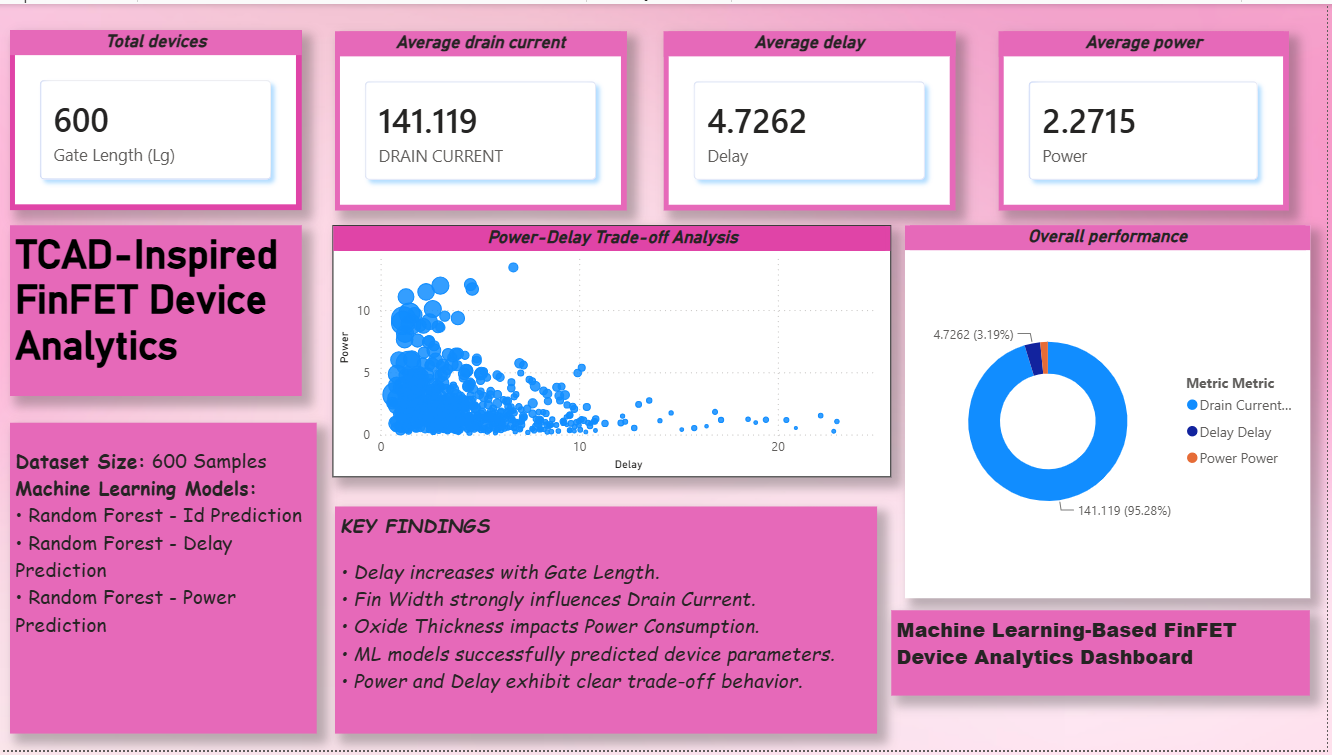

The page's visual inventory and layout, read from the dashboard file:
{"tool":"powerbi","page":{"name":"Project Summary & Key Insights","canvas":[1280,720],"ordinal":3},"visuals":[{"type":"cardVisual","title":"Total devices","fields":{"Data":["CountNonNull(VLSI_ML_Dataset.Gate Length (Lg))"]},"box":[10,25.6,281.6,173.5],"z":0},{"type":"cardVisual","title":"Average drain current","fields":{"Data":["Avg(VLSI_ML_Dataset.Id)"]},"box":[323.2,26,281.3,173.1],"z":1},{"type":"cardVisual","title":"Average  delay","fields":{"Data":["Avg(VLSI_ML_Dataset.Delay)"]},"box":[640.6,26,281.3,173.1],"z":2},{"type":"cardVisual","title":"Average power","fields":{"Data":["Avg(VLSI_ML_Dataset.Power)"]},"box":[963.8,26,279.9,173.1],"z":3},{"type":"textbox","box":[10,403.9,295.8,300.1],"z":4},{"type":"scatterChart","title":"Power-Delay Trade-off Analysis","fields":{"Size":["Avg(VLSI_ML_Dataset.Id)"],"X":["VLSI_ML_Dataset.Delay"],"Y":["VLSI_ML_Dataset.Power"]},"box":[321.4,213.3,539,243.2],"z":5},{"type":"textbox","box":[322.8,485,523.4,219],"z":6},{"type":"textbox","box":[10,213.3,281.6,165],"z":8},{"type":"donutChart","title":"Overall performance ","fields":{"Category":["Table.Metric","Table.Value","Table.Metric"],"Y":["Sum(Table.Value)"]},"box":[873.2,213.3,391.1,359.8],"z":9},{"type":"textbox","box":[860.4,584.5,403.9,82.5],"z":10}]}

Visuals, with their boxes in screenshot pixels (x1, y1, x2, y2), scaled from the page's 1280x720 canvas onto the 1332x755 screenshot:
"Total devices" cardVisual: [x1=10, y1=27, x2=303, y2=209]
"Average drain current" cardVisual: [x1=336, y1=27, x2=629, y2=209]
"Average  delay" cardVisual: [x1=667, y1=27, x2=959, y2=209]
"Average power" cardVisual: [x1=1003, y1=27, x2=1294, y2=209]
textbox: [x1=10, y1=424, x2=318, y2=738]
"Power-Delay Trade-off Analysis" scatterChart: [x1=334, y1=224, x2=895, y2=479]
textbox: [x1=336, y1=509, x2=881, y2=738]
textbox: [x1=10, y1=224, x2=303, y2=397]
"Overall performance " donutChart: [x1=909, y1=224, x2=1316, y2=601]
textbox: [x1=895, y1=613, x2=1316, y2=699]
